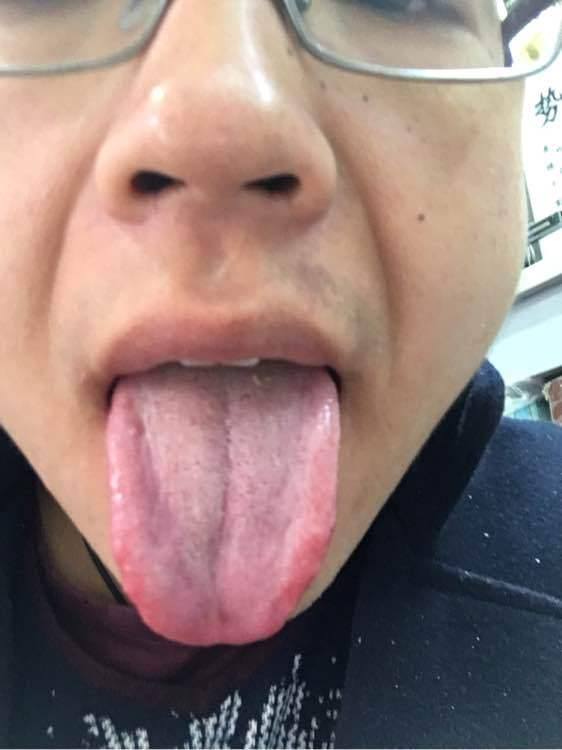baitaishe: (107, 362, 338, 648)
liewenshe: (209, 400, 232, 572)
